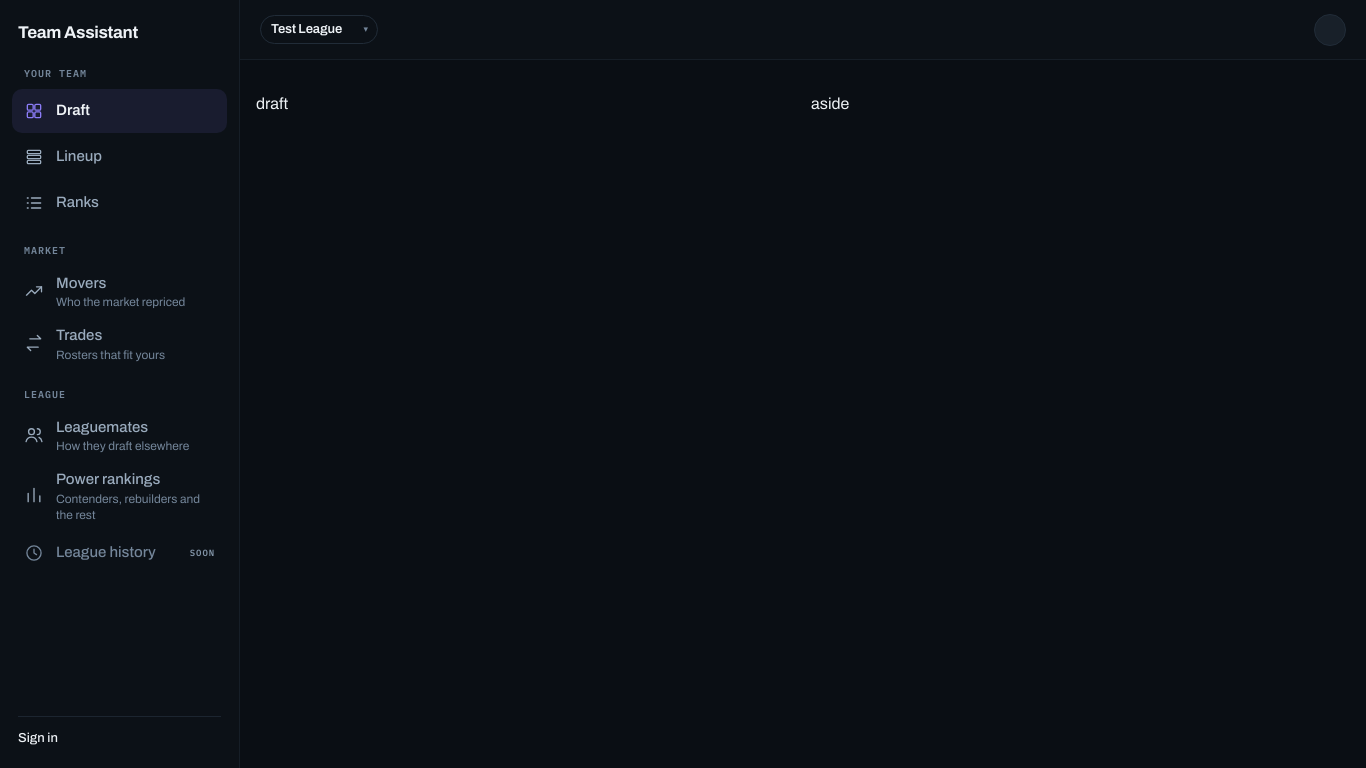
Test: AppShell › changes the rendered section and the hash when a tab is clicked
Click the button "Lineup": (120, 156) [12,134,227,178]
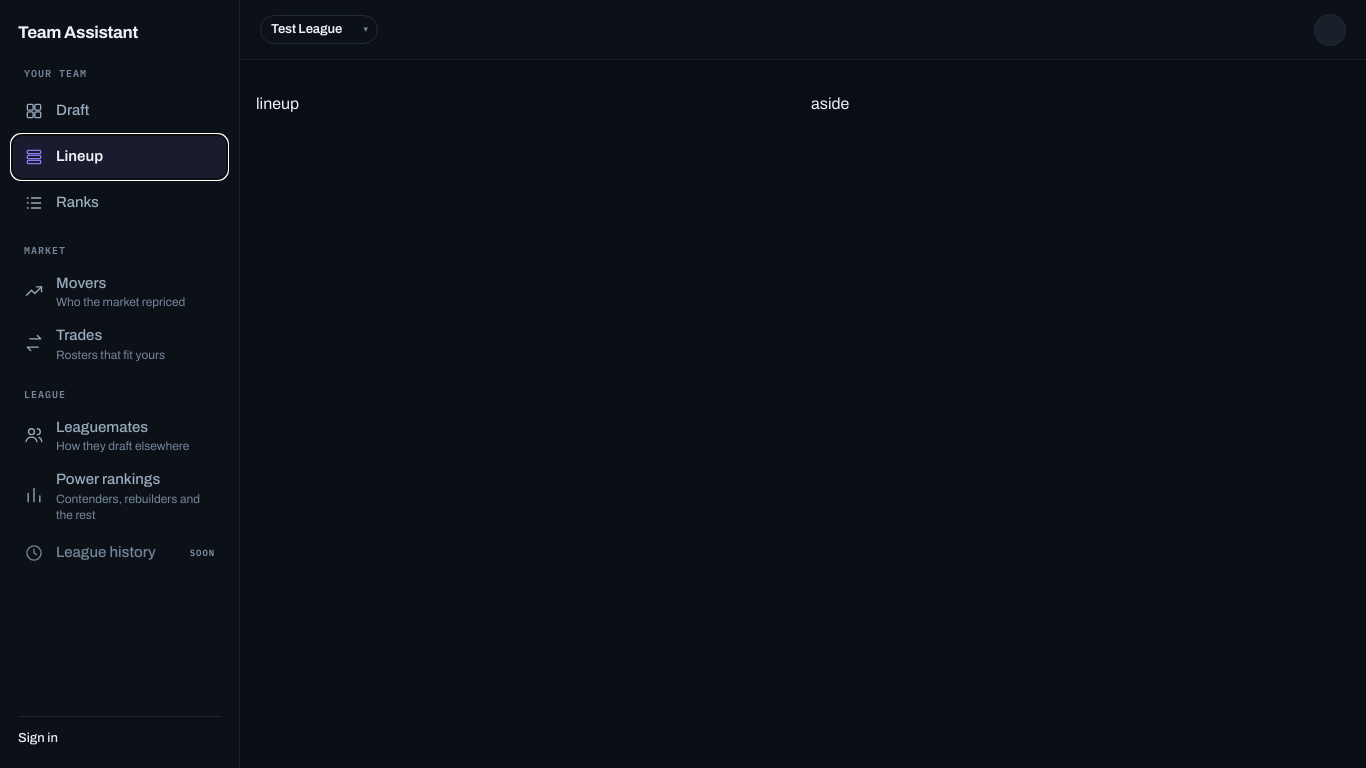
Check: the text with test id "section-content" reads "lineup", box [256,95,299,112]
